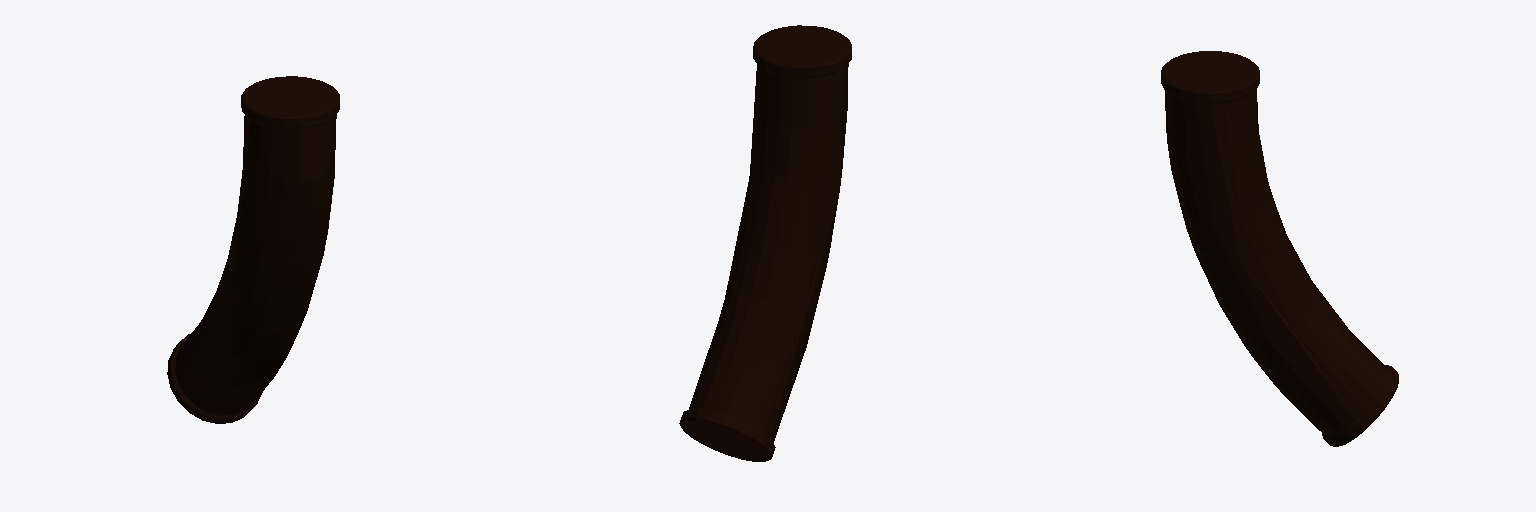
File: Pipe20c.001.obj
3 views of the same model, side by side, from view 1: azimuth 30°, elevation 25°; view 2: azimuth 150°, elevation 25°; view 3: azimuth 270°, elevation 25° (orthographic).
Parts seen in each view (by area): view 1: Pipe20c.001_Pipe20c.002; view 2: Pipe20c.001_Pipe20c.002; view 3: Pipe20c.001_Pipe20c.002.
Part boxes in pixels (x1,y1,x2,y2): Pipe20c.001_Pipe20c.002: (167, 76, 339, 423); Pipe20c.001_Pipe20c.002: (679, 25, 851, 461); Pipe20c.001_Pipe20c.002: (1161, 51, 1398, 446).
Size of the model in its own units: 0.054 by 0.2207 by 0.1292.